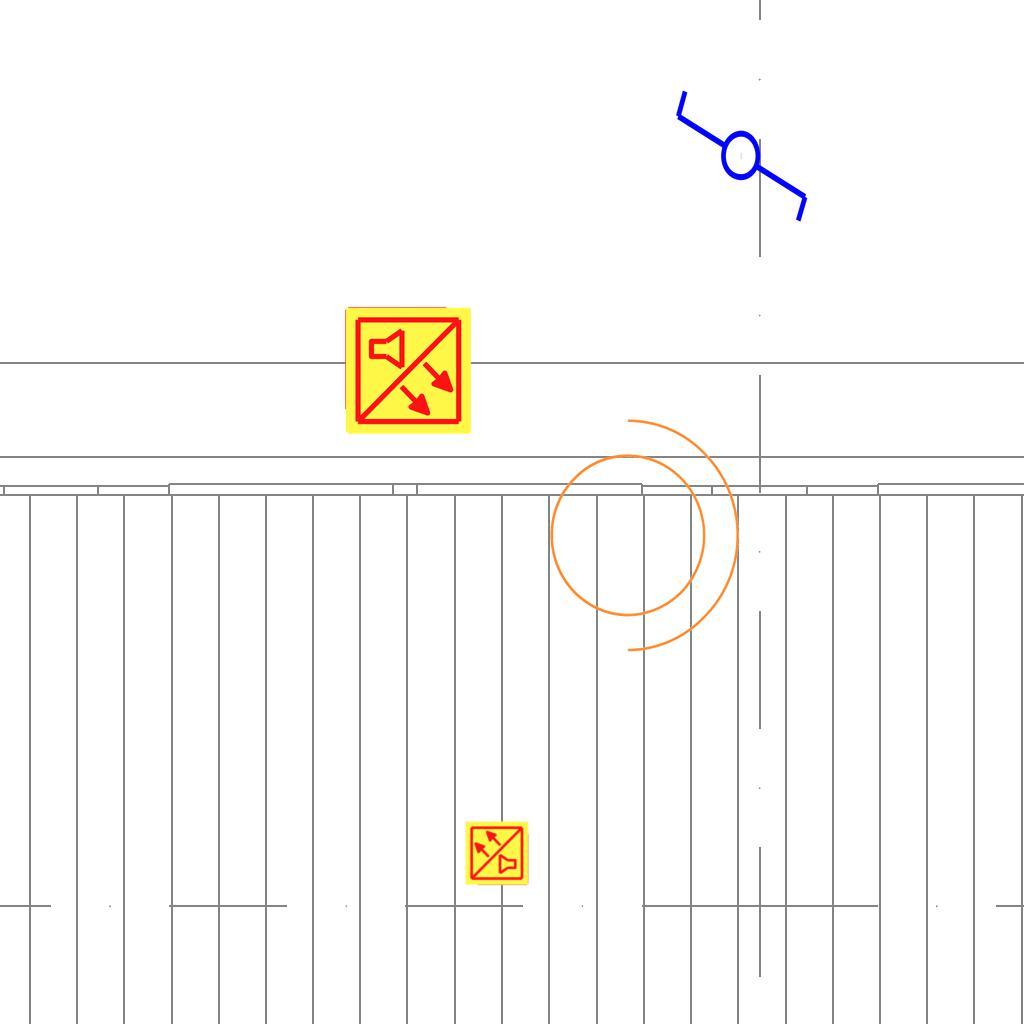OKW_Multisensormelder_(Kombination_optischer_Rauch-Kahlenmonoxid_Waerme-Melder): (342, 305, 474, 437), (464, 820, 530, 886)
Scheinwerfer_fuer_Alarmbeleuchtung: (525, 397, 750, 661)
Wechselschalter: (671, 69, 815, 226)
